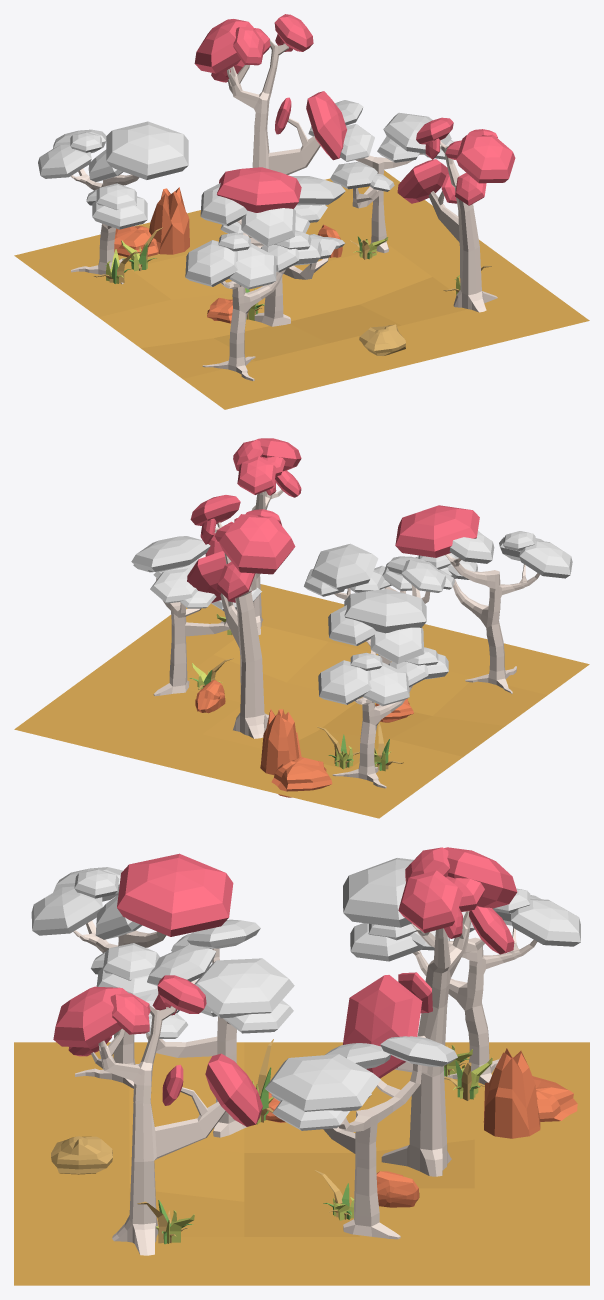
Rendered from jasmijns_goede_chunk_2.fbx.
The picture shows the model from 3 angles, top to bottom: view 1: azimuth 30°, elevation 25°; view 2: azimuth 150°, elevation 25°; view 3: azimuth 270°, elevation 25°; orthographic projection. The views are drawn at different scales.
Visible parts, largest first — view 1: tile, bladeren_pasted__left_leafs_bladeren_pasted__tree_bladeren_g (×14), bladeren_pasted__pSphere3_bladeren_pasted__left_leafs_blader (×3), stam_2, pasted__pSphere6_2, pCylinder2_6, steen_3, stam, pasted__pSphere3, pasted__pSphere6, upper_part, pCylinder1_7 (+10 smaller); view 2: tile, bladeren_pasted__left_leafs_bladeren_pasted__tree_bladeren_g (×12), bladeren_pasted__pSphere3_bladeren_pasted__left_leafs_blader (×2), stam, pasted__pSphere6, pCylinder2_6, pCylinder1_7, steen_3, pCylinder2_7, steen_4, pasted__pSphere3, pasted__pSphere8_2 (+5 smaller); view 3: tile, bladeren_pasted__left_leafs_bladeren_pasted__tree_bladeren_g (×14), bladeren_pasted__pSphere3_bladeren_pasted__left_leafs_blader (×4), stam_2, stam, pCylinder1_7, pasted__pSphere3, steen_3, pCylinder2_7, pasted__pSphere6_2, pasted__pSphere8, pasted__pSphere3_2 (+15 smaller).
Boxes of the visible parts, left/top/right/bottom form: tile: left=14, top=170, right=589, bottom=409; bladeren_pasted__left_leafs_bladeren_pasted__tree_bladeren_g (×14): left=38, top=112, right=451, bottom=289; bladeren_pasted__pSphere3_bladeren_pasted__left_leafs_blader (×3): left=106, top=121, right=374, bottom=212; stam_2: left=428, top=191, right=497, bottom=312; pasted__pSphere6_2: left=456, top=134, right=515, bottom=183; pCylinder2_6: left=202, top=219, right=285, bottom=380; steen_3: left=149, top=187, right=189, bottom=254; stam: left=249, top=118, right=320, bottom=247; pasted__pSphere3: left=306, top=91, right=346, bottom=160; pasted__pSphere6: left=194, top=19, right=254, bottom=73; upper_part: left=227, top=40, right=288, bottom=130; pCylinder1_7: left=352, top=153, right=423, bottom=253; tile: left=14, top=584, right=589, bottom=818; bladeren_pasted__left_leafs_bladeren_pasted__tree_bladeren_g (×12): left=131, top=531, right=572, bottom=706; bladeren_pasted__pSphere3_bladeren_pasted__left_leafs_blader (×2): left=344, top=505, right=479, bottom=633; stam: left=220, top=593, right=268, bottom=738; pasted__pSphere6: left=219, top=514, right=295, bottom=574; pCylinder2_6: left=445, top=554, right=539, bottom=693; pCylinder1_7: left=153, top=578, right=236, bottom=696; steen_3: left=260, top=709, right=301, bottom=774; pCylinder2_7: left=332, top=639, right=412, bottom=788; steen_4: left=271, top=757, right=332, bottom=797; pasted__pSphere3: left=187, top=551, right=226, bottom=603; pasted__pSphere8_2: left=237, top=456, right=276, bottom=494; tile: left=14, top=1042, right=589, bottom=1285; bladeren_pasted__left_leafs_bladeren_pasted__tree_bladeren_g (×14): left=31, top=869, right=580, bottom=1130; bladeren_pasted__pSphere3_bladeren_pasted__left_leafs_blader (×4): left=117, top=853, right=413, bottom=1068; stam_2: left=112, top=1087, right=225, bottom=1255; stam: left=381, top=1004, right=451, bottom=1176; pCylinder1_7: left=323, top=1064, right=421, bottom=1239; pasted__pSphere3: left=343, top=975, right=422, bottom=1078; steen_3: left=483, top=1048, right=540, bottom=1138; pCylinder2_7: left=411, top=923, right=537, bottom=1084; pasted__pSphere6_2: left=53, top=986, right=128, bottom=1047; pasted__pSphere8: left=398, top=870, right=462, bottom=932; pasted__pSphere3_2: left=205, top=1053, right=262, bottom=1126.
Size of the model in its own units: 51.38 by 31.97 by 50.
